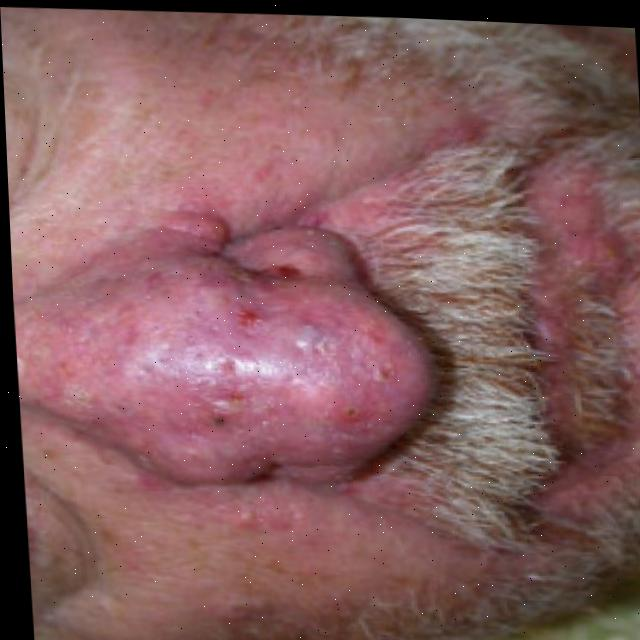Rosacea: (70, 261, 348, 486)
